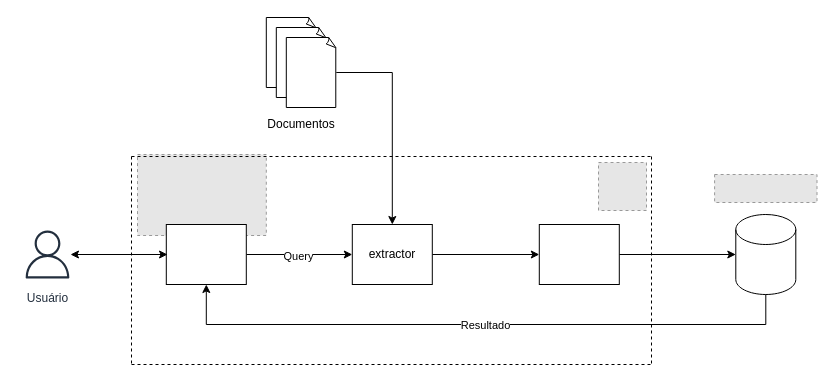
Some shapes in this 835 by 383 pixel diagram are drawn without their labels. Grey dashed boxes stand in for pictures. The box of each missing label's shape, as (x1, y1, x2, y2) in pixels:
api: (165, 224, 246, 284)
embeddings: (538, 224, 619, 284)
